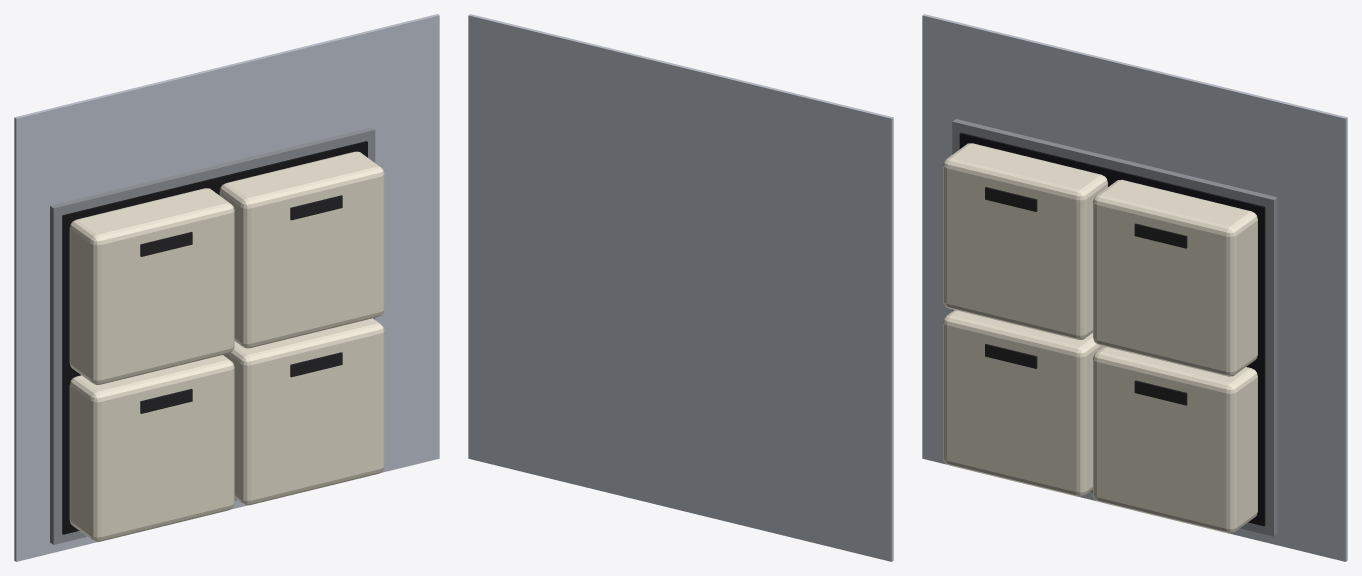
The model's file is keypad_module.glb.
The picture shows the model from 3 angles, left to right: view 1: azimuth 30°, elevation 25°; view 2: azimuth 150°, elevation 25°; view 3: azimuth 330°, elevation 25°; orthographic projection.
Visible parts, largest first — view 1: keypad_plate, part_key_0, part_key_2, part_key_1, part_key_3, keypad_tray, keypad_well, key_led_1, key_led_2, key_led_3, key_led_0; view 2: keypad_plate; view 3: keypad_plate, part_key_1, part_key_3, part_key_0, part_key_2, keypad_tray, keypad_well, key_led_3, key_led_1, key_led_0, key_led_2.
Boxes of the visible parts, x1,y1,x2,y2 form: keypad_plate: (14, 14, 439, 561); part_key_0: (69, 188, 234, 384); part_key_2: (69, 355, 234, 541); part_key_1: (219, 151, 384, 348); part_key_3: (223, 318, 384, 505); keypad_tray: (50, 127, 375, 544); keypad_well: (62, 141, 367, 534); key_led_1: (290, 195, 342, 220); key_led_2: (140, 388, 192, 413); key_led_3: (290, 352, 342, 377); key_led_0: (140, 232, 192, 256); keypad_plate: (468, 14, 893, 561); keypad_plate: (922, 14, 1347, 561); part_key_1: (1093, 179, 1257, 376); part_key_3: (1093, 346, 1257, 533); part_key_0: (943, 143, 1107, 339); part_key_2: (943, 310, 1104, 496); keypad_tray: (952, 119, 1277, 536); keypad_well: (959, 132, 1265, 526); key_led_3: (1134, 380, 1187, 405); key_led_1: (1134, 223, 1187, 248); key_led_0: (985, 187, 1037, 211); key_led_2: (985, 344, 1037, 368).
Size of the model in its own units: 0.74 by 0.74 by 0.1005.
